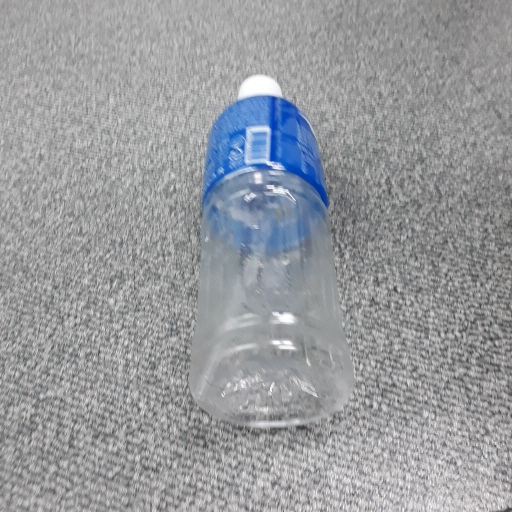Plastic_0: (186, 70, 355, 430)
